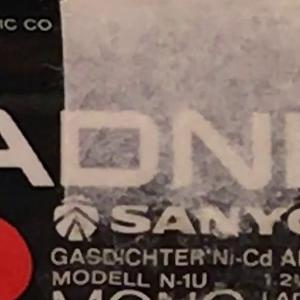NI-CD: (197, 240, 281, 266)
